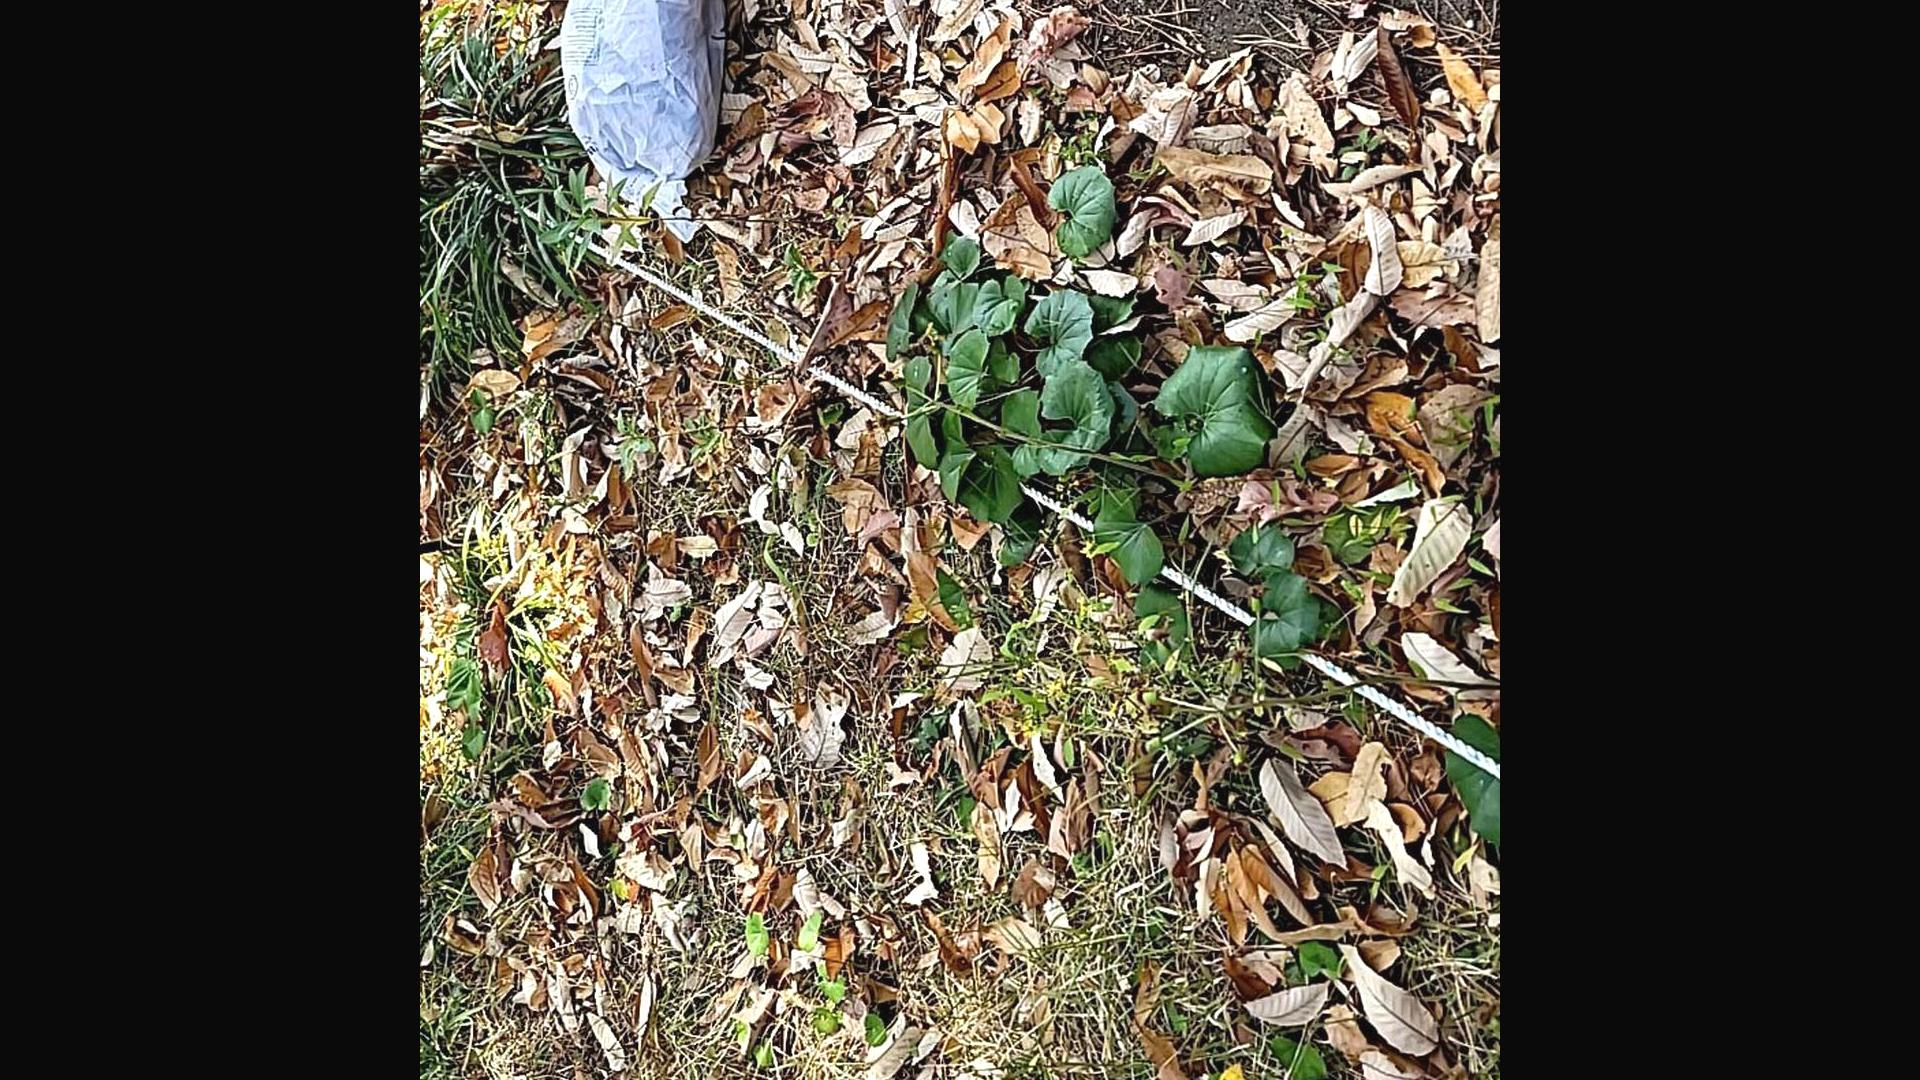white_bag: (556, 0, 742, 246)
